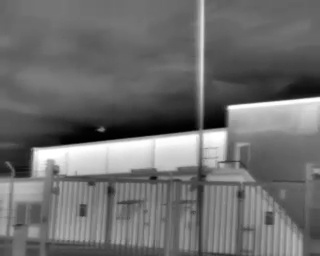HELICOPTER: (94, 123, 109, 136)
